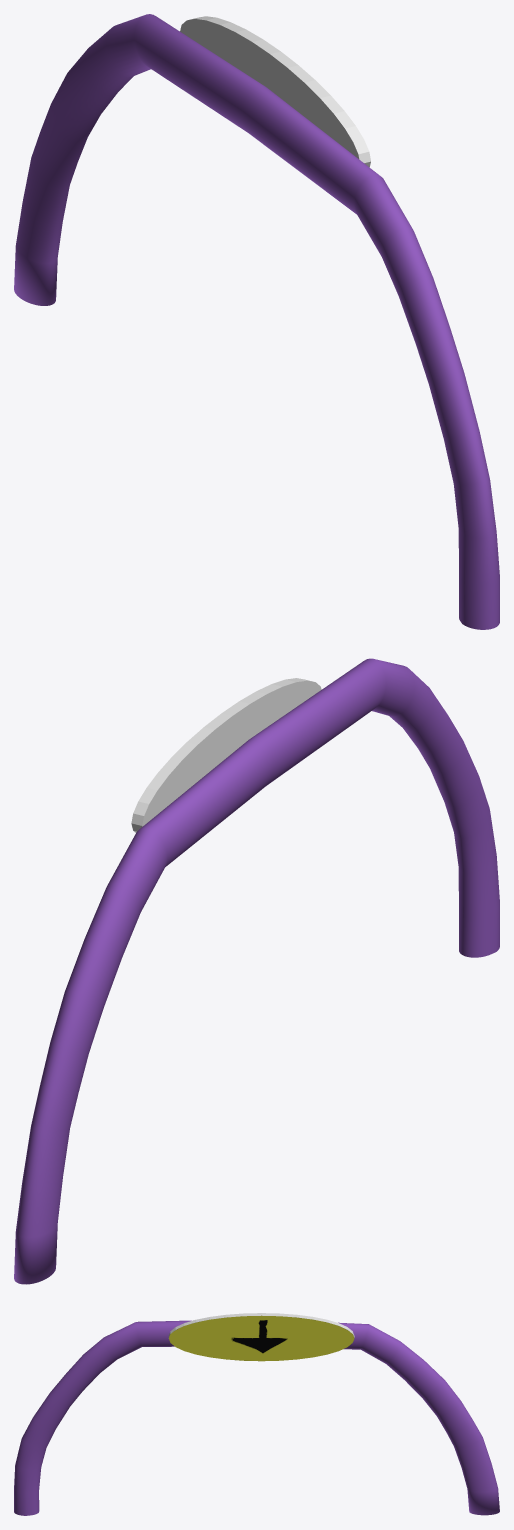
File: Checkpoint Test.fbx
3 renders of one model, top to bottom at view 1: azimuth 30°, elevation 25°; view 2: azimuth 150°, elevation 25°; view 3: azimuth 270°, elevation 25°, orthographic. The views are drawn at different scales.
Parts seen in each view (by area): view 1: Checkpoint, Sign; view 2: Checkpoint, Sign; view 3: Checkpoint, Sign.
Part boxes in pixels (x1=…): Checkpoint: x1=14, y1=14, x2=499, y2=629; Sign: x1=180, y1=16, x2=370, y2=167; Checkpoint: x1=14, y1=658, x2=499, y2=1284; Sign: x1=131, y1=678, x2=321, y2=832; Checkpoint: x1=14, y1=1320, x2=499, y2=1515; Sign: x1=168, y1=1313, x2=354, y2=1361.
Bounding box in the file's own units: 220 × 1782 × 3858.
